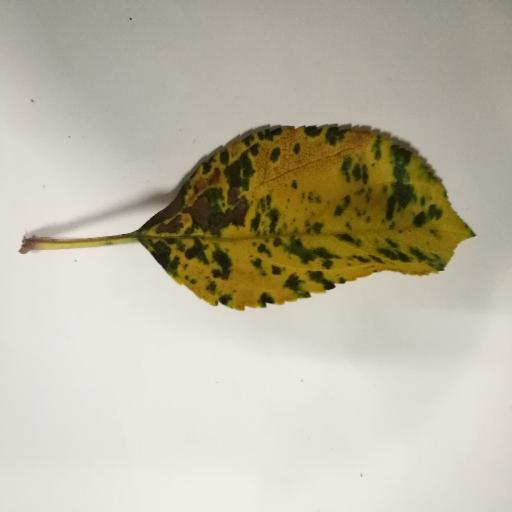Brown_Spot: (157, 177, 256, 238)
